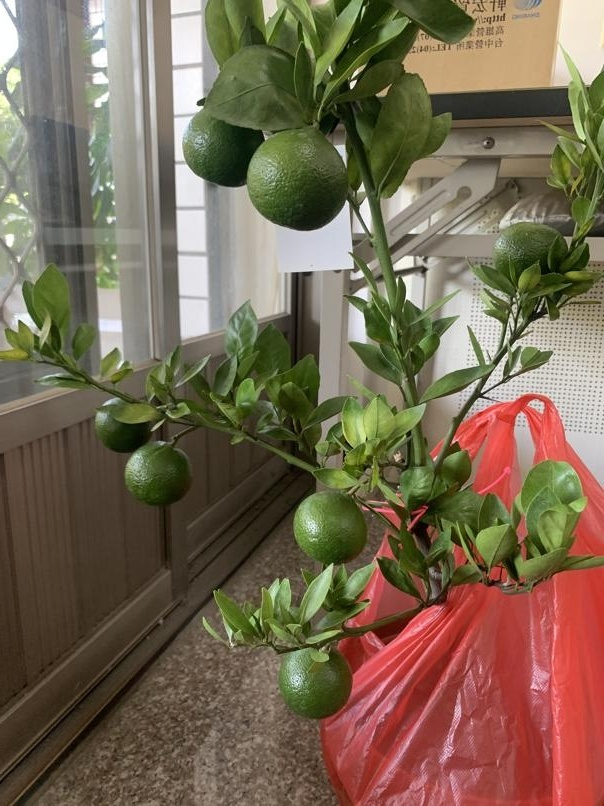Tangerine: (246, 124, 350, 230), (183, 110, 264, 185), (272, 647, 353, 719), (295, 485, 368, 564), (121, 438, 194, 511), (493, 224, 569, 281), (91, 393, 153, 452)
